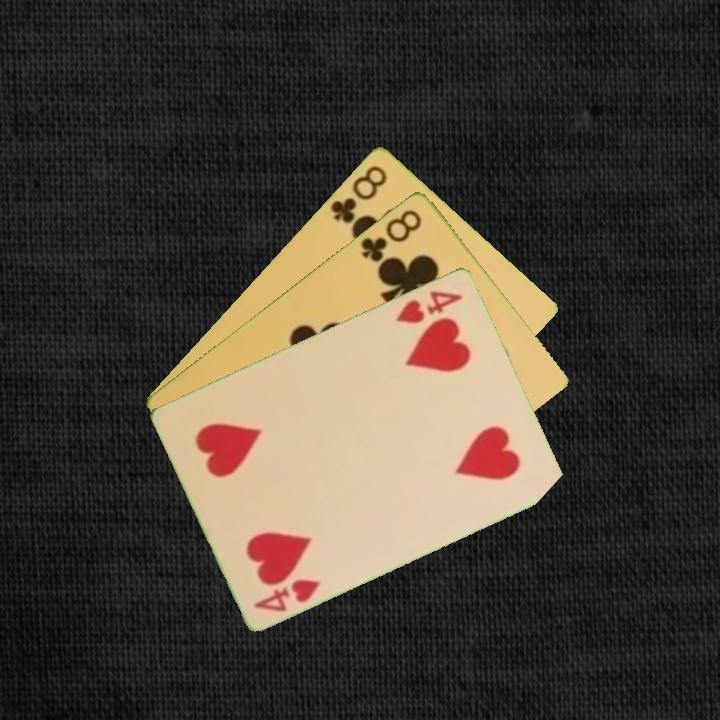4h: (391, 286, 466, 326), (250, 575, 324, 615)
8c: (327, 161, 390, 226), (357, 205, 425, 265)
